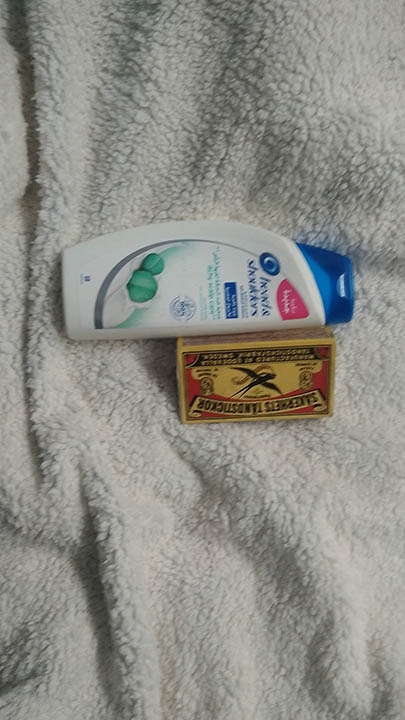match-sticks .90$: (176, 332, 342, 425)
shampoo-green 4.5$: (60, 222, 371, 342)
